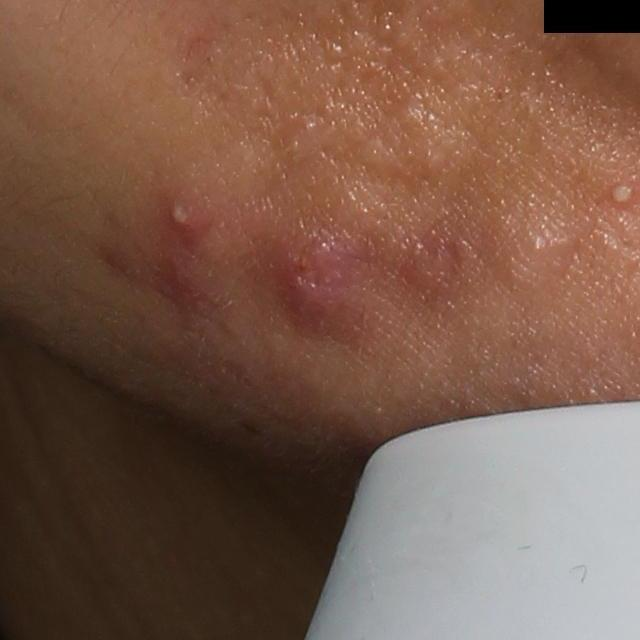atrophic_scar: (104, 251, 216, 325)
hypertrophic_scar: (485, 198, 587, 296)
nodule: (262, 209, 383, 339)
papule: (410, 245, 462, 293)
pustule: (159, 196, 204, 239), (598, 179, 640, 211)
